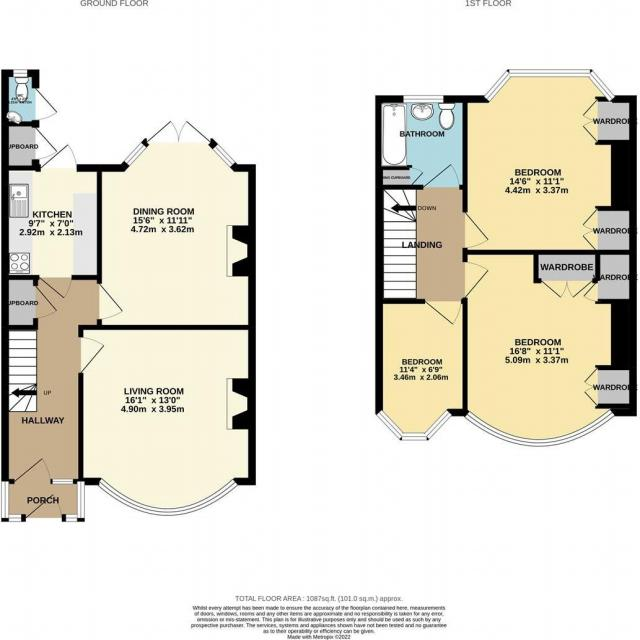DOOR: (39, 143, 78, 172), (424, 298, 463, 326), (78, 336, 106, 375), (96, 282, 124, 321), (462, 261, 490, 299), (462, 211, 490, 249), (422, 163, 460, 190), (13, 457, 51, 484), (38, 275, 73, 300)
DOUBLE DOOR: (137, 108, 213, 146)
ROOM: (462, 250, 637, 447), (78, 324, 256, 517), (96, 119, 256, 330), (462, 69, 637, 255), (1, 144, 102, 299), (375, 298, 468, 441)
WINDOW: (463, 408, 616, 447), (97, 477, 239, 516), (482, 69, 616, 103), (375, 408, 454, 441), (122, 141, 148, 168), (211, 142, 237, 169), (403, 95, 444, 104), (52, 478, 74, 484)
